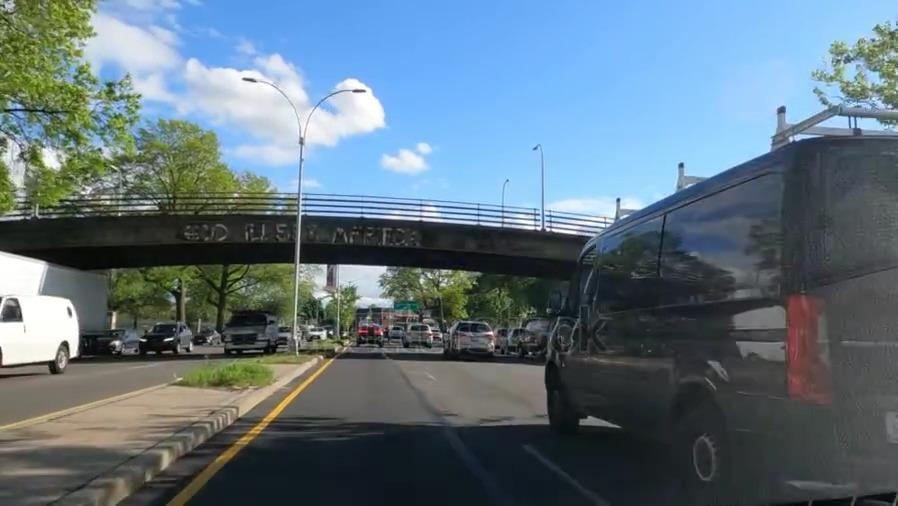car: (141, 323, 193, 353), (98, 327, 133, 355)
van: (566, 135, 897, 490), (0, 298, 85, 367), (221, 311, 276, 355), (446, 320, 491, 355), (355, 322, 388, 351), (403, 323, 434, 350)
wheel: (670, 397, 735, 506), (543, 371, 576, 427), (51, 345, 70, 371)
